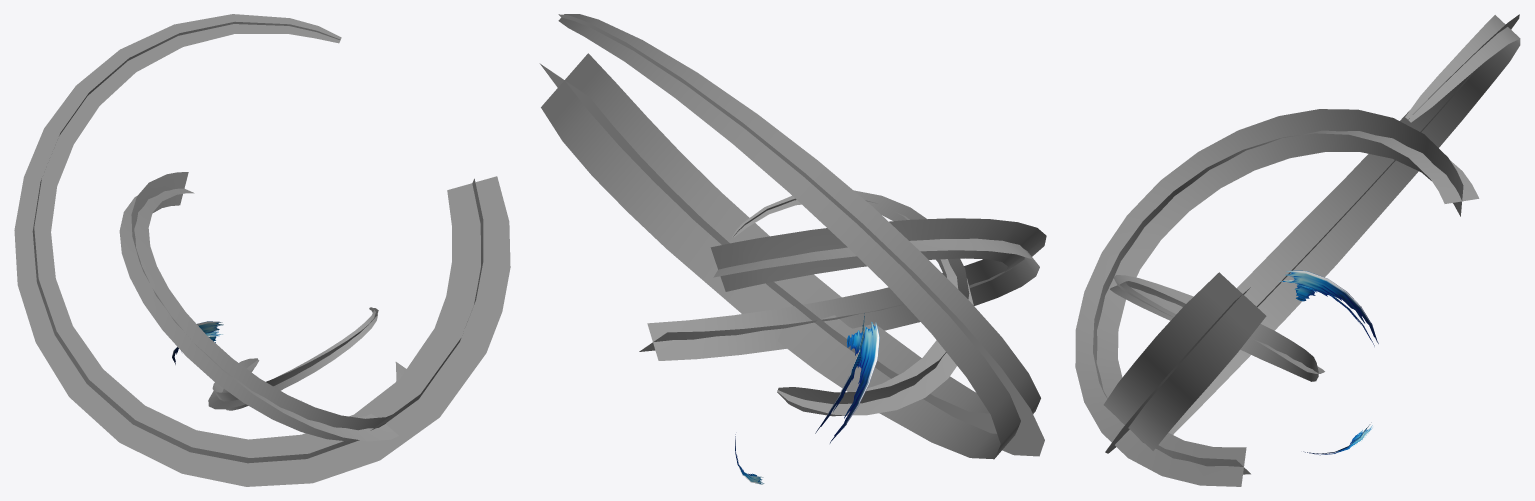
The model's file is M_wujiang_jiqi01.FBX.
The picture shows the model from 3 angles, left to right: view 1: azimuth 30°, elevation 25°; view 2: azimuth 150°, elevation 25°; view 3: azimuth 270°, elevation 25°; orthographic projection. The views are drawn at different scales.
Visible parts, largest first — view 1: pian01, pian03, pian02; view 2: pian01, pian03, pian02, pian04; view 3: pian01, pian03, pian02, pian04.
Part boxes in pixels (x1,y1,x2,y2): pian01: (14,14,510,486); pian03: (119,172,406,441); pian02: (208,307,378,410); pian01: (539,14,1044,459); pian03: (639,218,1046,360); pian02: (732,190,973,416); pian04: (735,313,879,484); pian01: (1103,14,1520,453); pian03: (1075,109,1479,486); pian02: (1110,275,1324,381); pian04: (1279,270,1378,455).
Bounding box in the file's own units: 222 × 182 × 171.
